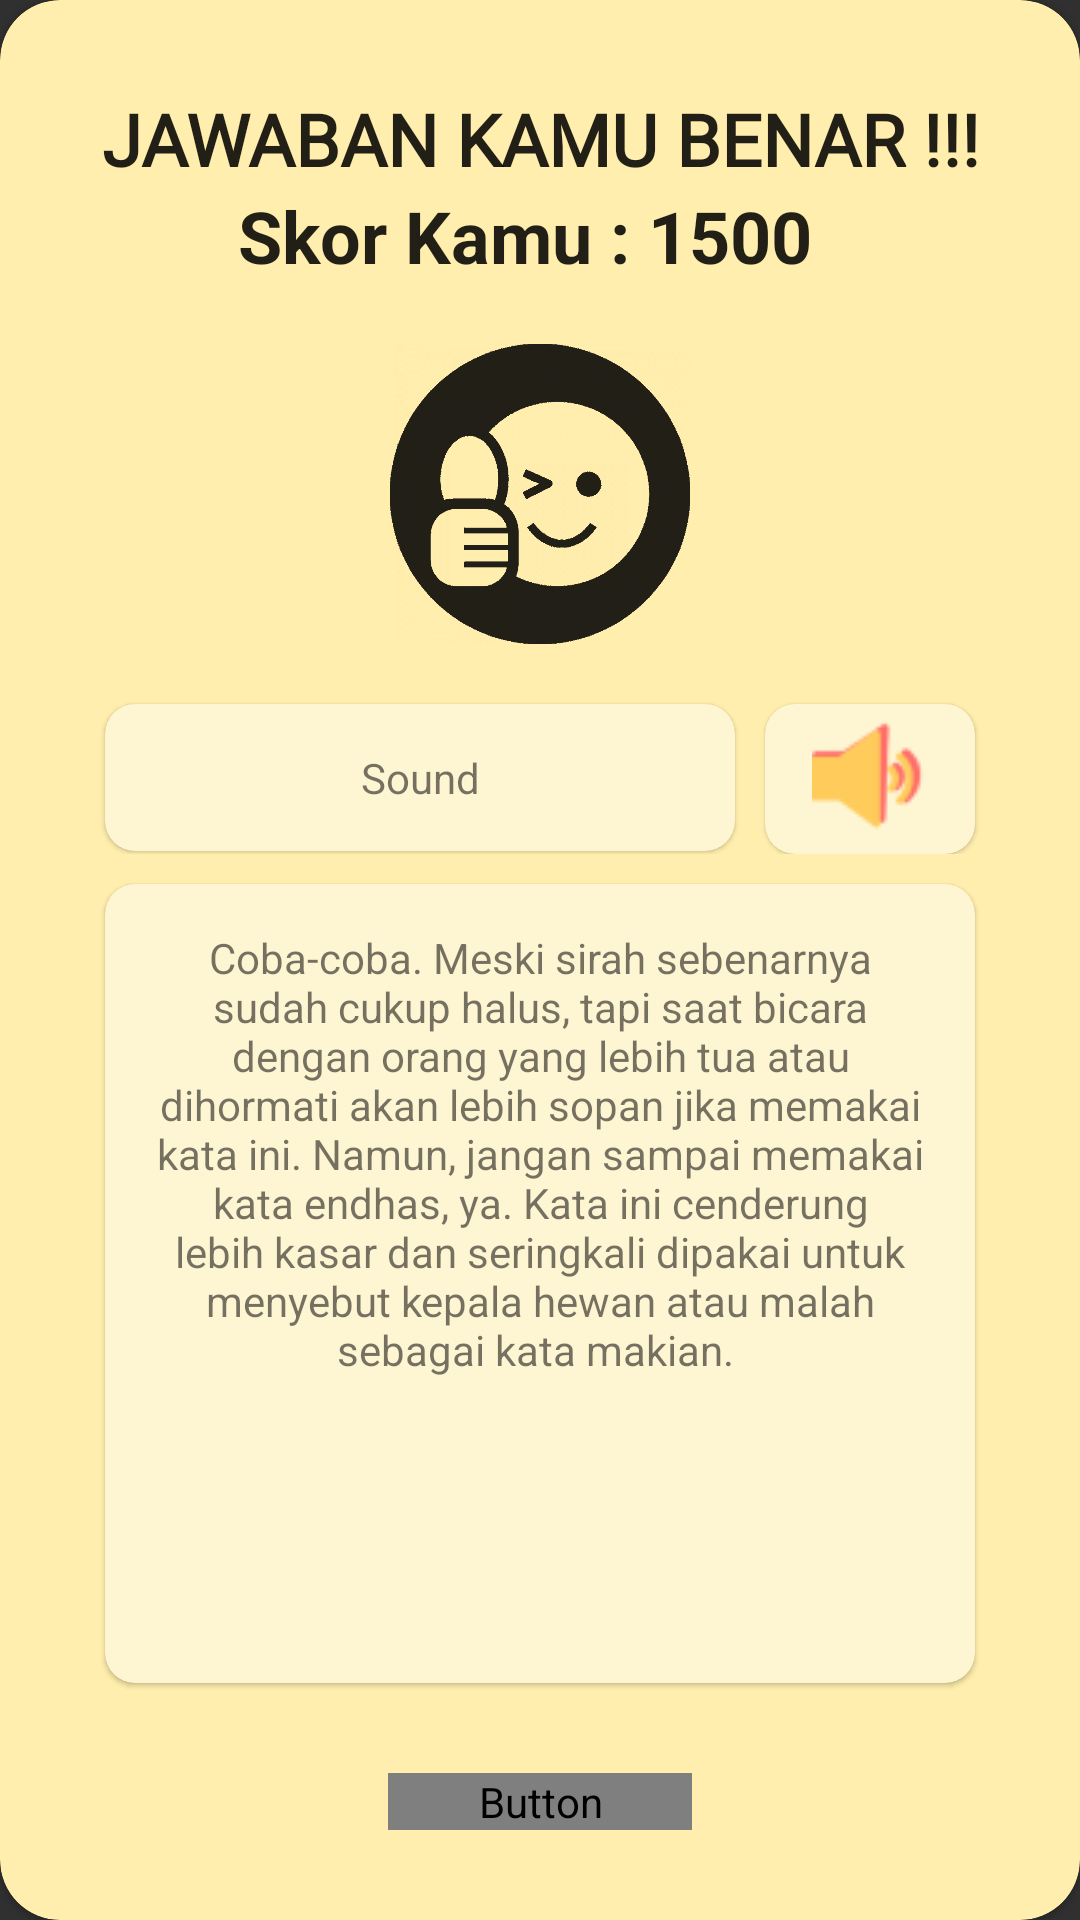

Point at icon controls on the screen. Image size 1080x1920, points as (x=x, y=y).
benar: (x=540, y=494)
